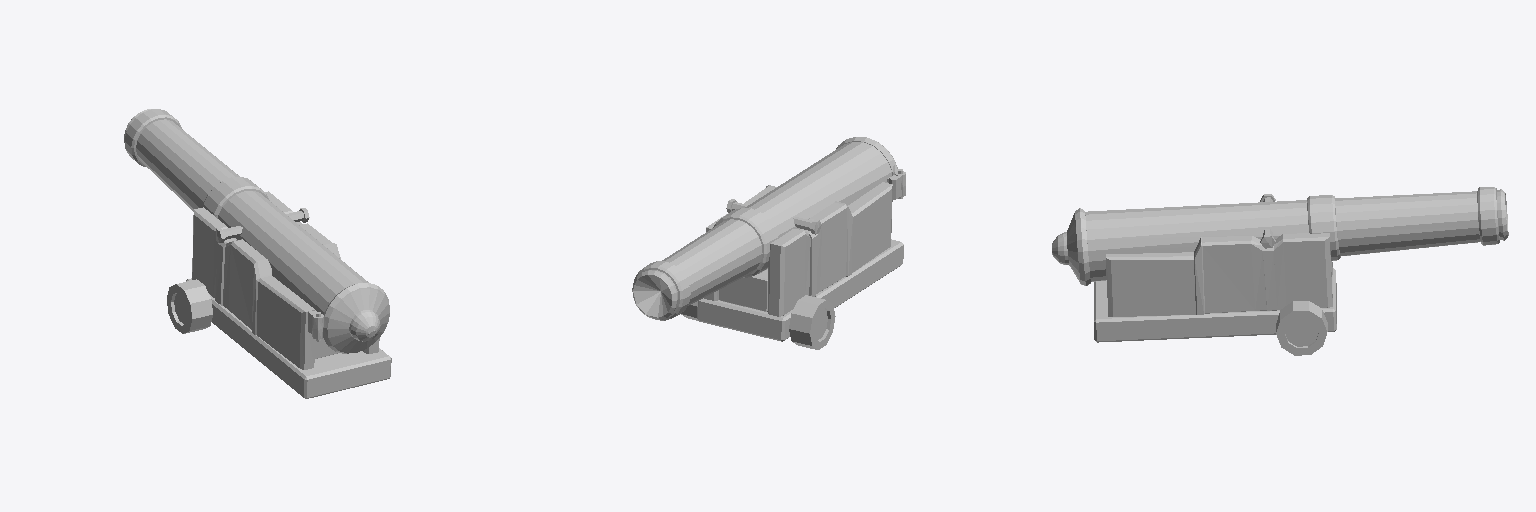
Rendered from CannonDefault.obj.
3 views of the same model, side by side, from view 1: azimuth 30°, elevation 25°; view 2: azimuth 150°, elevation 25°; view 3: azimuth 270°, elevation 25° (orthographic).
Parts seen in each view (by area): view 1: initialShadingGroup Cart, initialShadingGroup Barrel, initialShadingGroup Lid; view 2: initialShadingGroup Cart, initialShadingGroup Barrel, initialShadingGroup Lid; view 3: initialShadingGroup Cart, initialShadingGroup Barrel, initialShadingGroup Lid.
Boxes of the visible parts, x1,y1,x2,y2 form: initialShadingGroup Cart: [167, 191, 391, 398]; initialShadingGroup Barrel: [124, 109, 368, 313]; initialShadingGroup Lid: [308, 283, 389, 353]; initialShadingGroup Cart: [681, 182, 903, 349]; initialShadingGroup Barrel: [632, 142, 891, 320]; initialShadingGroup Lid: [836, 137, 905, 201]; initialShadingGroup Cart: [1094, 233, 1336, 355]; initialShadingGroup Barrel: [1085, 187, 1508, 281]; initialShadingGroup Lid: [1052, 208, 1090, 285].
Size of the model in its own units: 17.54 by 17.26 by 52.68.